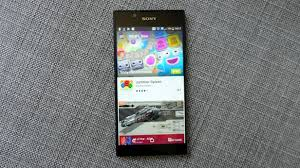sony: (111, 5, 189, 160)
